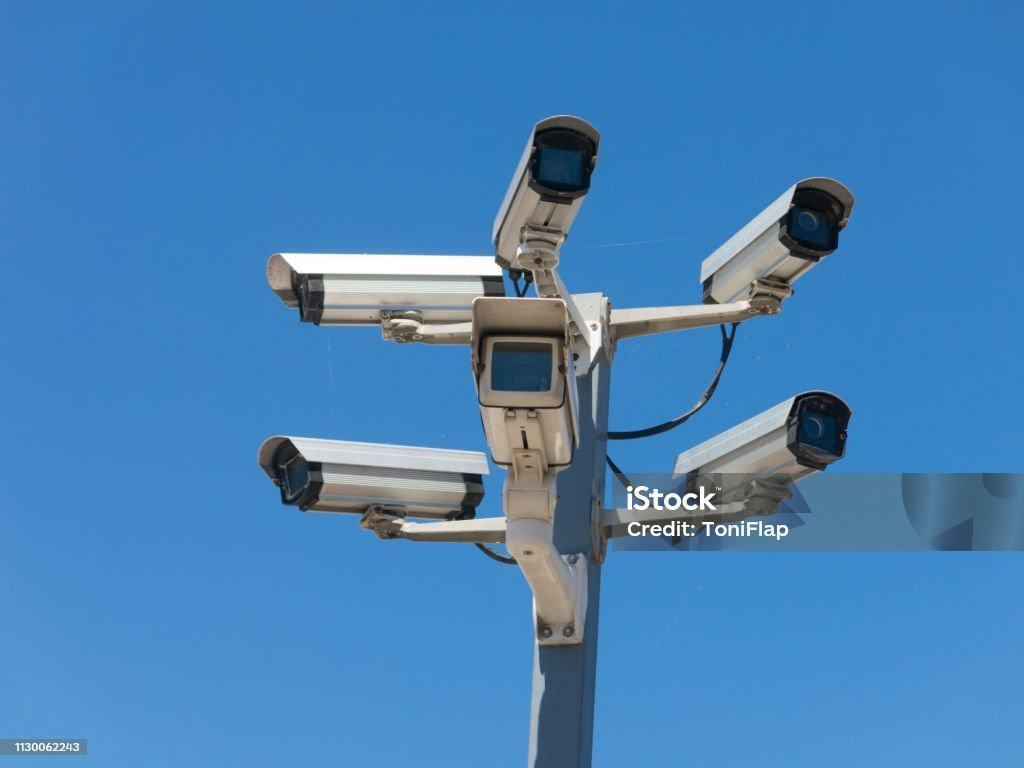------------------------------: (690, 169, 864, 330), (259, 234, 523, 340), (254, 423, 494, 537), (460, 287, 601, 481), (674, 384, 861, 518), (485, 102, 606, 279)
